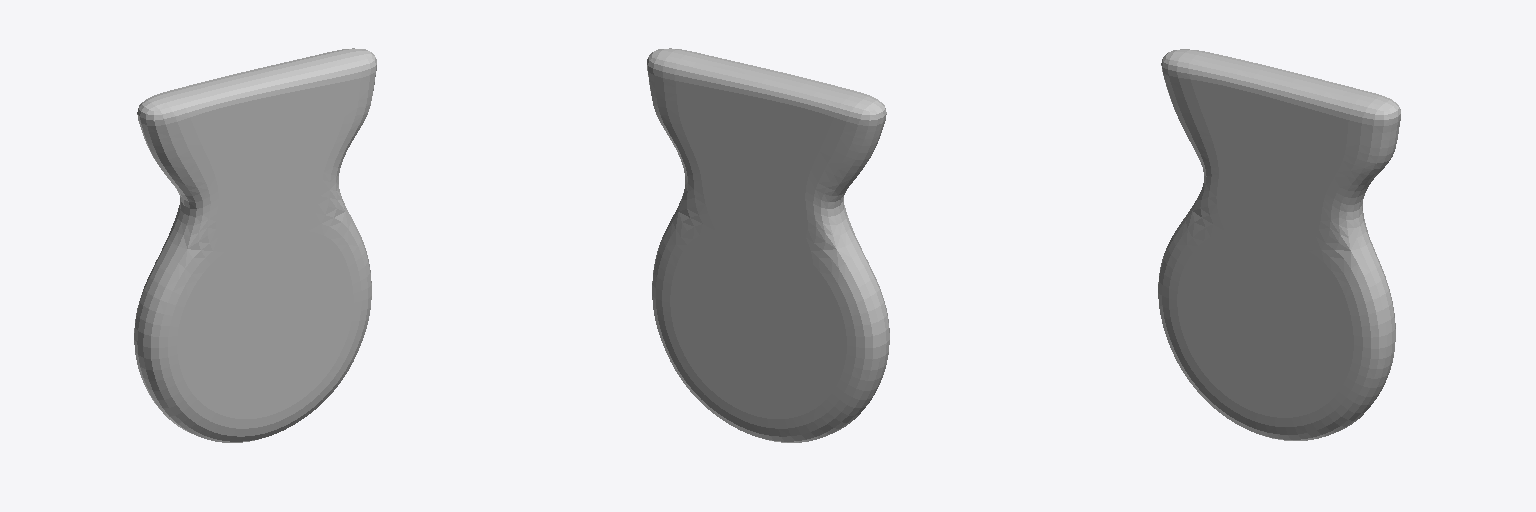
Rendered from Mao.obj.
The picture shows the model from 3 angles: view 1: azimuth 30°, elevation 25°; view 2: azimuth 150°, elevation 25°; view 3: azimuth 330°, elevation 25°; orthographic projection.
Parts seen in each view (by area): view 1: Mao; view 2: Mao; view 3: Mao.
Boxes of the visible parts, <box> form: Mao: <box>134,48,376,442</box>; Mao: <box>647,48,889,442</box>; Mao: <box>1158,49,1400,440</box>.
Size of the model in its own units: 0.4157 by 0.6074 by 0.0725.